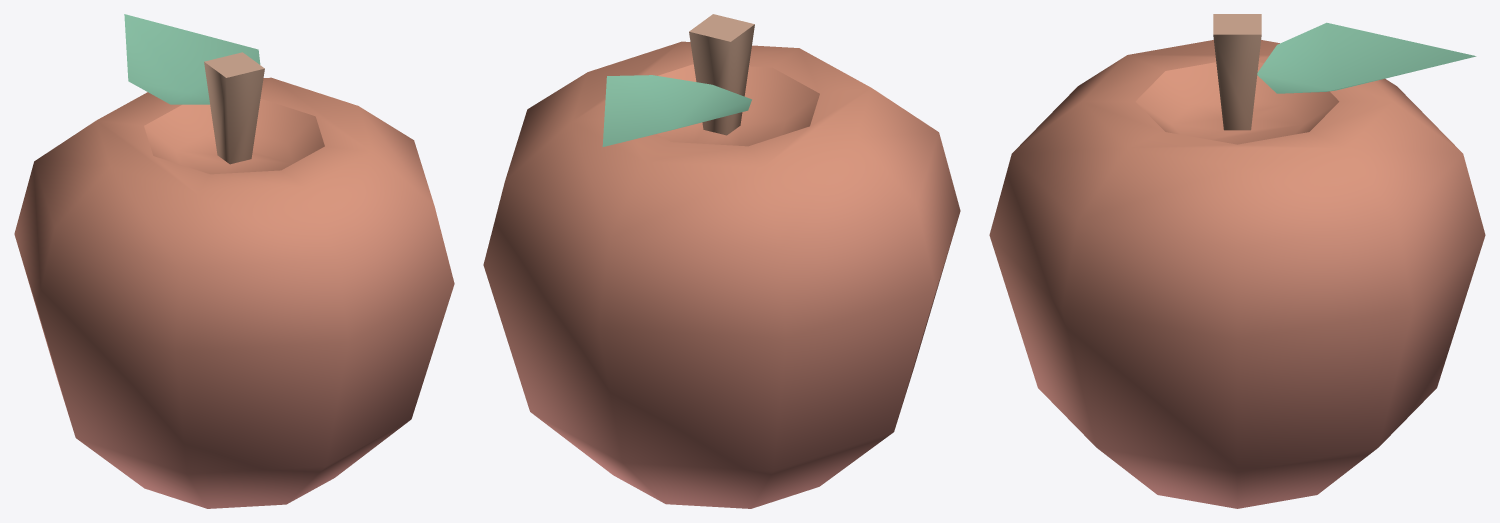
File: apple.glb
3 views of the same model, side by side, from view 1: azimuth 30°, elevation 25°; view 2: azimuth 150°, elevation 25°; view 3: azimuth 270°, elevation 25° (orthographic). The views are drawn at different scales.
Parts seen in each view (by area): view 1: apple; view 2: apple; view 3: apple.
Boxes of the visible parts, x1=… form: apple: x1=14, y1=14, x2=454, y2=508; apple: x1=483, y1=14, x2=960, y2=508; apple: x1=989, y1=14, x2=1485, y2=508.
Bounding box in the file's own units: 0.1963 × 0.1908 × 0.1963.
